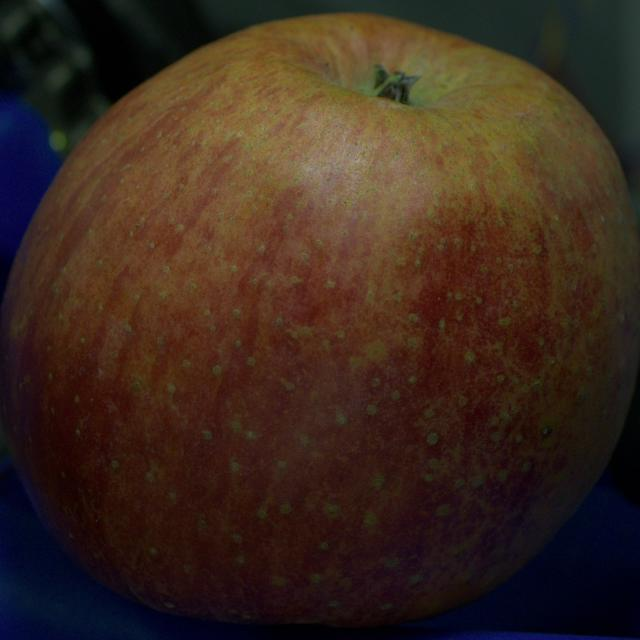apple: (0, 14, 639, 626)
